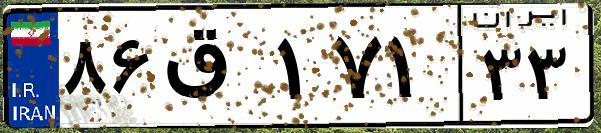1: (270, 28, 330, 110), (385, 28, 445, 110)
3: (475, 38, 525, 113), (525, 38, 570, 115)
6: (110, 28, 158, 98)
7: (330, 28, 385, 110)
8: (57, 26, 110, 100)
ق: (158, 20, 270, 120)
